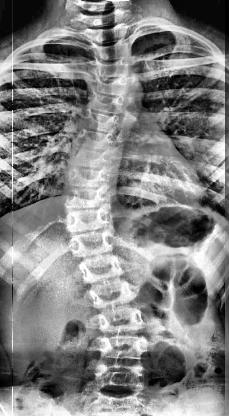Vertebrae: (97, 334, 157, 364), (100, 310, 148, 334), (76, 257, 126, 280), (89, 284, 137, 306), (72, 233, 114, 255), (76, 132, 118, 154), (64, 186, 110, 206), (67, 209, 109, 230), (92, 56, 132, 76), (94, 39, 132, 59), (67, 168, 109, 186), (72, 150, 112, 168), (86, 109, 122, 129), (95, 76, 135, 94), (91, 93, 131, 110)
